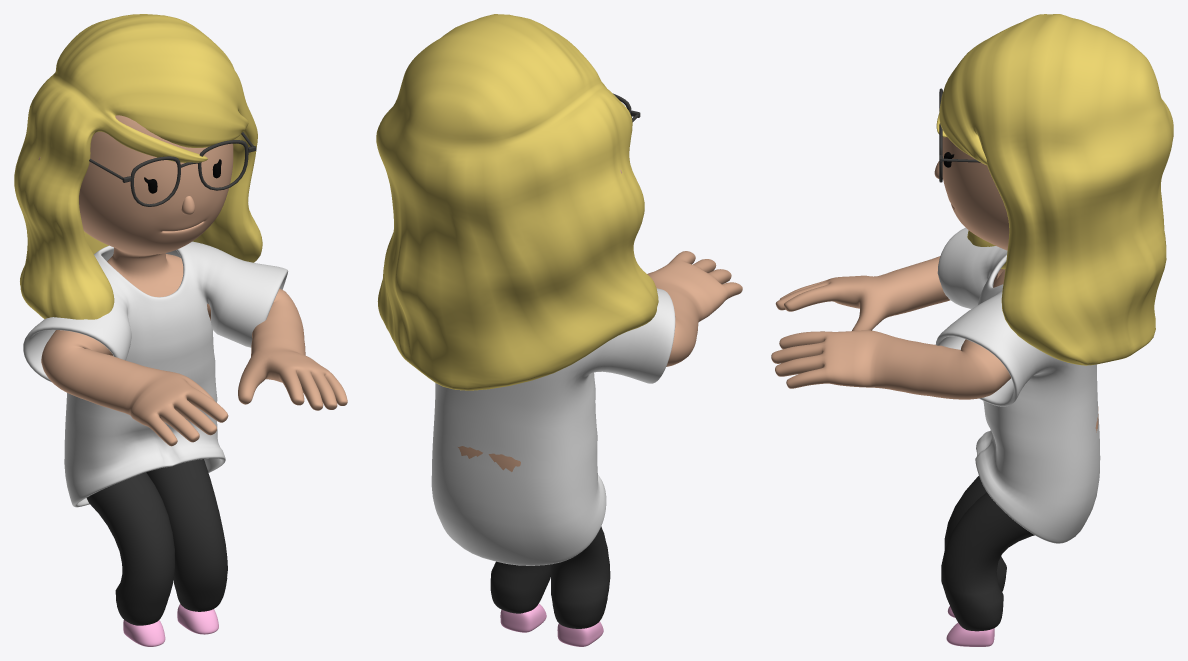
File: regisseur.gltf
The picture shows the model from 3 angles, left to right: view 1: azimuth 30°, elevation 25°; view 2: azimuth 150°, elevation 25°; view 3: azimuth 270°, elevation 25°; orthographic projection. The views are drawn at different scales.
Visible parts, largest first — view 1: Hair_7, T-shirt, body, head, Cube.033, Cube.032, eyeglass_2, Cube.035, Cube.034; view 2: Hair_7, T-shirt, body, Cube.033, Cube.032, Cube.035, Cube.034; view 3: Hair_7, T-shirt, body, Cube.032, head, Cube.033, Cube.035.
Boxes of the visible parts, box(x1,y1,x2,y2) form: Hair_7: box(14, 14, 262, 319); T-shirt: box(23, 241, 288, 507); body: box(41, 288, 347, 446); head: box(38, 115, 233, 297); Cube.033: box(86, 472, 174, 625); Cube.032: box(146, 459, 227, 611); eyeglass_2: box(89, 132, 256, 206); Cube.035: box(177, 604, 218, 634); Cube.034: box(123, 620, 165, 646); Hair_7: box(376, 14, 658, 390); T-shirt: box(431, 288, 675, 565); body: box(458, 251, 742, 471); Cube.033: box(550, 526, 610, 628); Cube.032: box(490, 561, 550, 613); Cube.035: box(500, 603, 546, 632); Cube.034: box(557, 621, 603, 646); Hair_7: box(936, 14, 1173, 365); T-shirt: box(935, 227, 1100, 543); body: box(771, 256, 1098, 432); Cube.032: box(941, 492, 1034, 631); head: box(942, 137, 1009, 287); Cube.033: box(944, 476, 1006, 591); Cube.035: box(946, 622, 994, 646).
Size of the model in its own units: 4.23 by 9.01 by 5.42.
